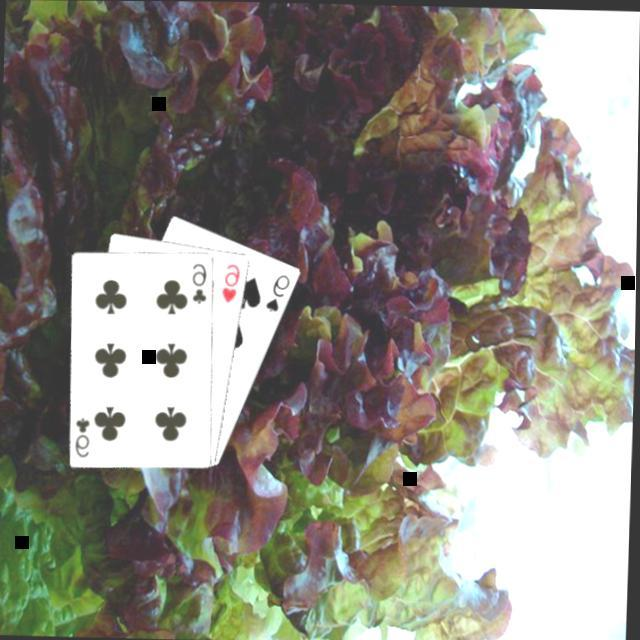6C: (190, 260, 213, 306), (75, 414, 96, 460)
6H: (220, 260, 246, 306)
9S: (264, 270, 296, 316)
